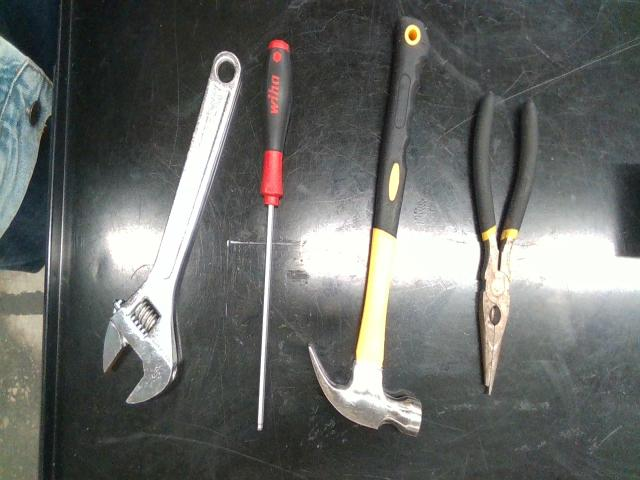Adjustable spanner: (102, 52, 240, 403)
Hammer: (309, 17, 430, 434)
Needle-nose pliers: (472, 92, 538, 394)
Screwdriver: (258, 40, 292, 429)
